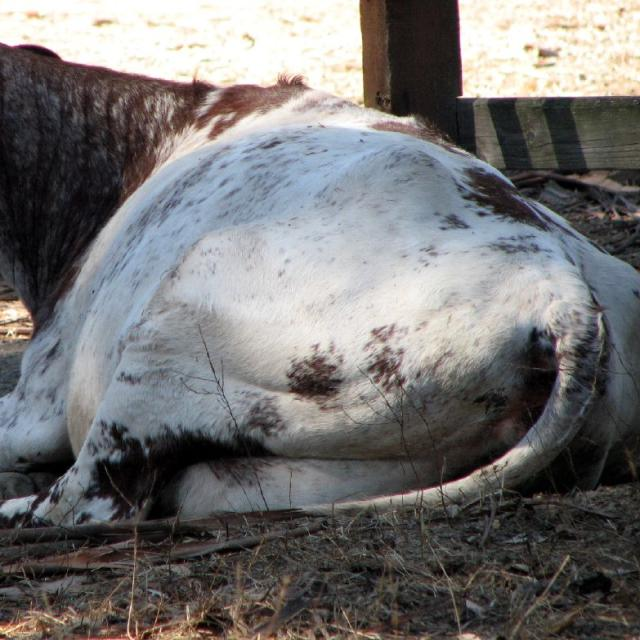cow: (0, 45, 639, 524)
